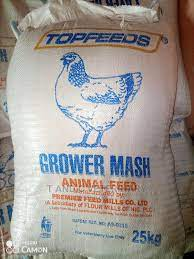feed_bag: (4, 2, 192, 259)
